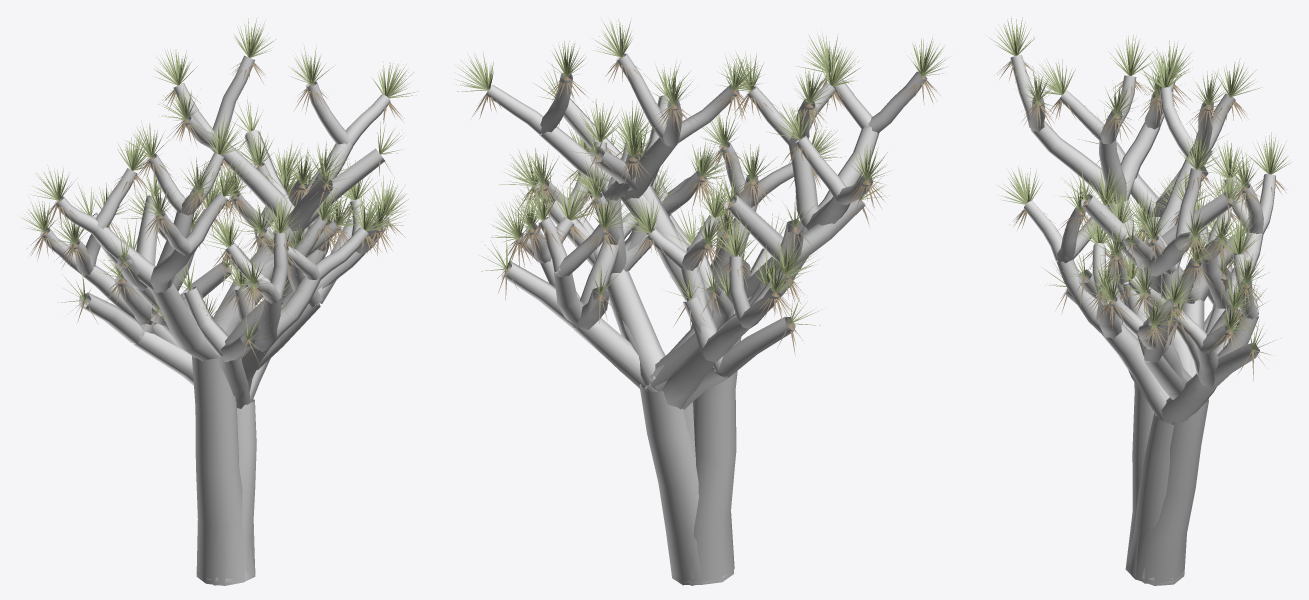
File: joshua.glb
3 renders of one model, left to right at view 1: azimuth 30°, elevation 25°; view 2: azimuth 150°, elevation 25°; view 3: azimuth 270°, elevation 25°, orthographic. The views are drawn at different scales.
Parts seen in each view (by area): view 1: joshua_2, joshua_1, joshua_2_mid, joshua_0, joshua_1_mid, joshua_0_mid; view 2: joshua_2, joshua_1, joshua_0, joshua_2_mid, joshua_1_mid, joshua_0_mid; view 3: joshua_1, joshua_2, joshua_0, joshua_2_mid, joshua_0_mid, joshua_1_mid.
Boxes of the visible parts, box(x1,y1,x2,y2) form: joshua_2: box(31, 17, 418, 585); joshua_1: box(21, 142, 393, 582); joshua_2_mid: box(69, 99, 403, 585); joshua_0: box(195, 126, 408, 580); joshua_1_mid: box(57, 215, 331, 581); joshua_0_mid: box(115, 193, 370, 579); joshua_2: box(454, 18, 947, 584); joshua_1: box(491, 113, 845, 583); joshua_0: box(499, 98, 737, 585); joshua_2_mid: box(534, 59, 888, 583); joshua_1_mid: box(479, 188, 820, 584); joshua_0_mid: box(527, 166, 819, 585); joshua_1: box(997, 132, 1290, 584); joshua_2: box(989, 17, 1261, 580); joshua_0: box(1082, 167, 1215, 585); joshua_2_mid: box(1060, 106, 1253, 579); joshua_0_mid: box(1109, 206, 1268, 583); joshua_1_mid: box(1041, 200, 1280, 582).
Bounding box in the file's own units: 4.62 × 5.89 × 3.1.
